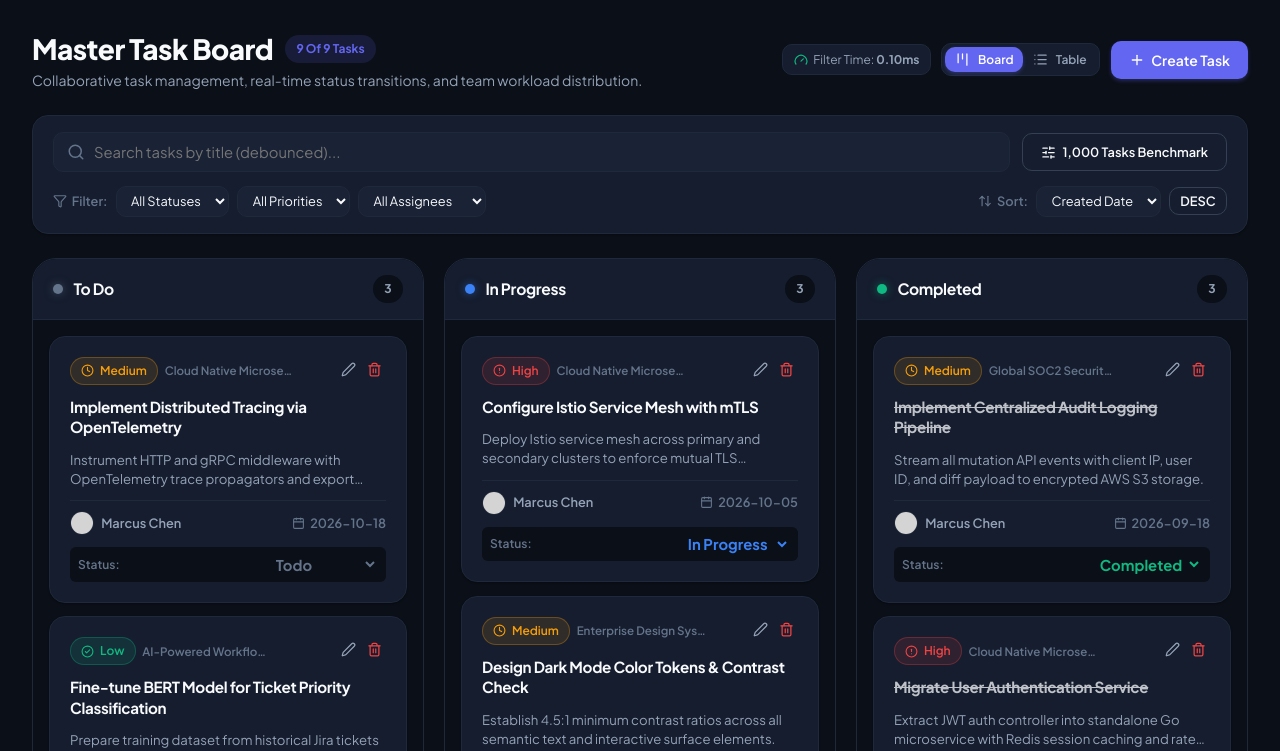
Task Rendering, Search, and Filtering › filters by status and clears filters properly
Expected: the heading "Configure Istio Service Mesh with mTLS" is shown, [482,397,798,417]
Select "Completed" in the dropdown named "filter by task status". click: x=172, y=201
box: [116,186,229,217]
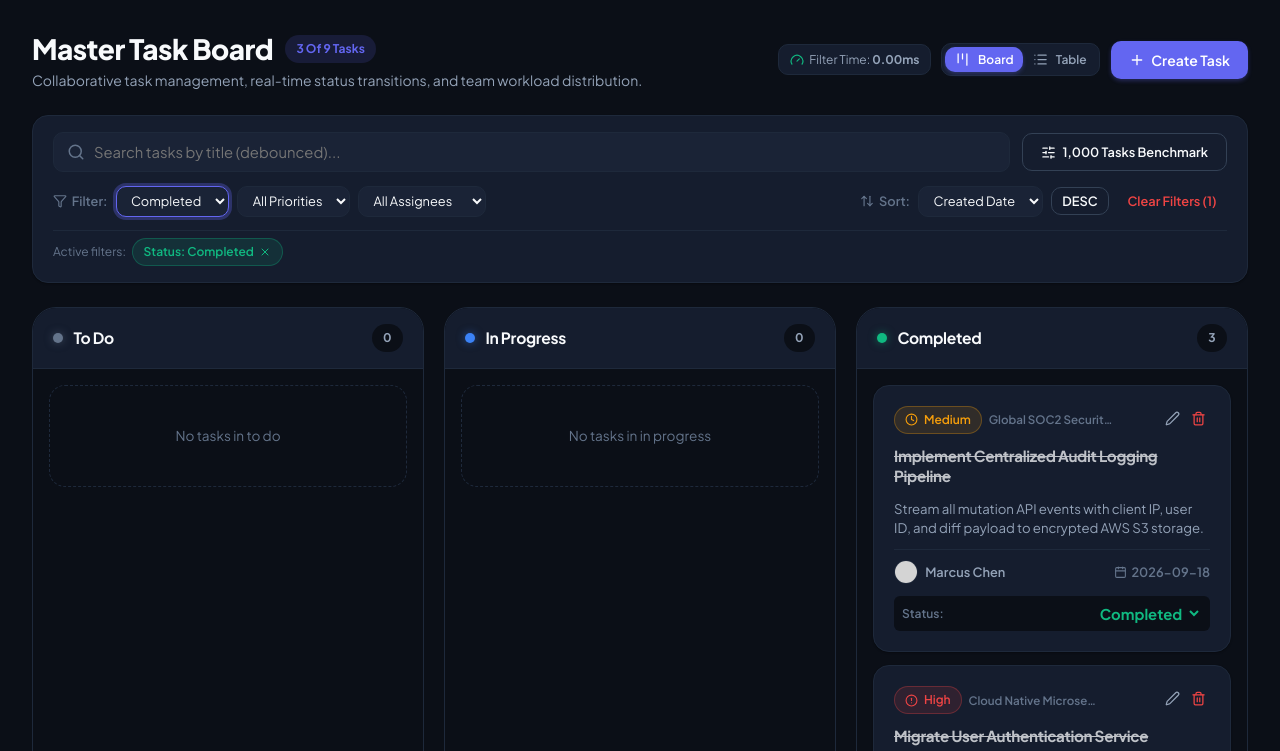
Expected: the heading "Migrate User Authentication Service" is shown, [894,726,1148,745]
Now the heading "Configure Istio Service Mesh with mTLS" is gone
Now the button with aria-label "clear all active filters" is shown
Click the button with aria-label "clear all active filters". click: x=1172, y=201
box: [1117,188,1227,214]
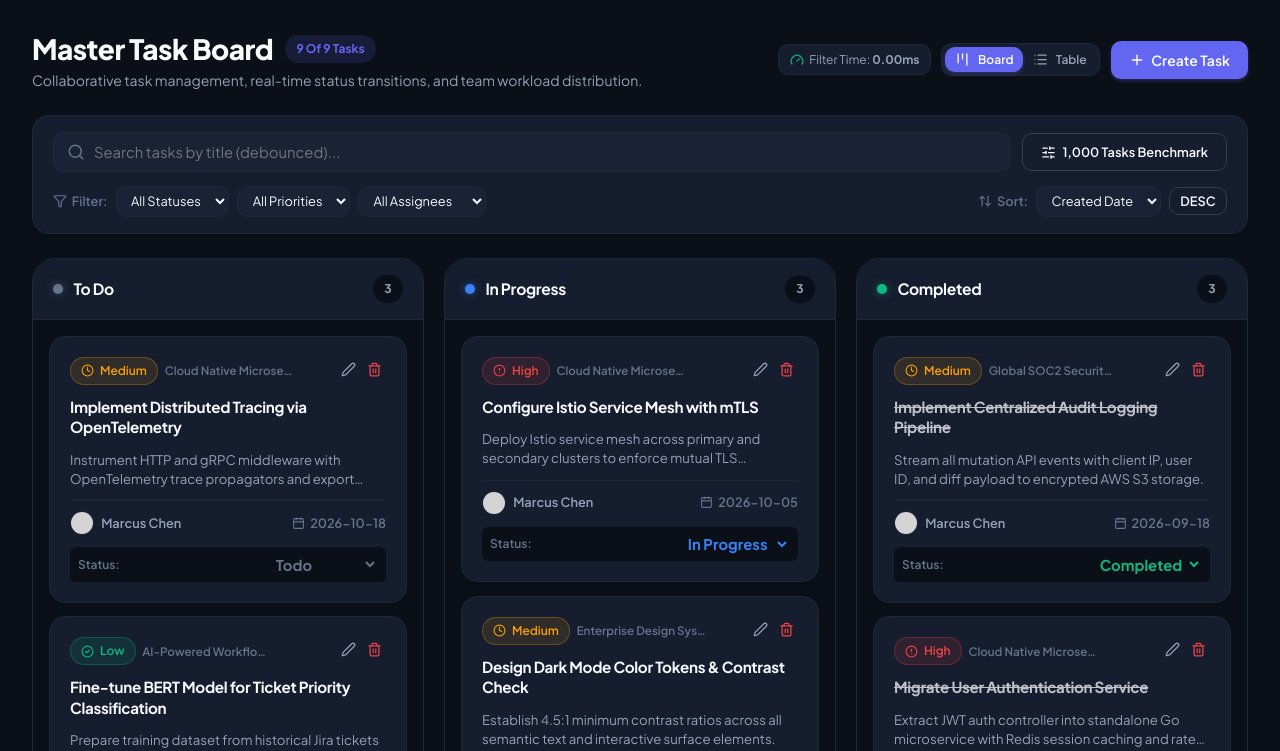
Now the heading "Configure Istio Service Mesh with mTLS" is shown, box [482,397,798,417]
